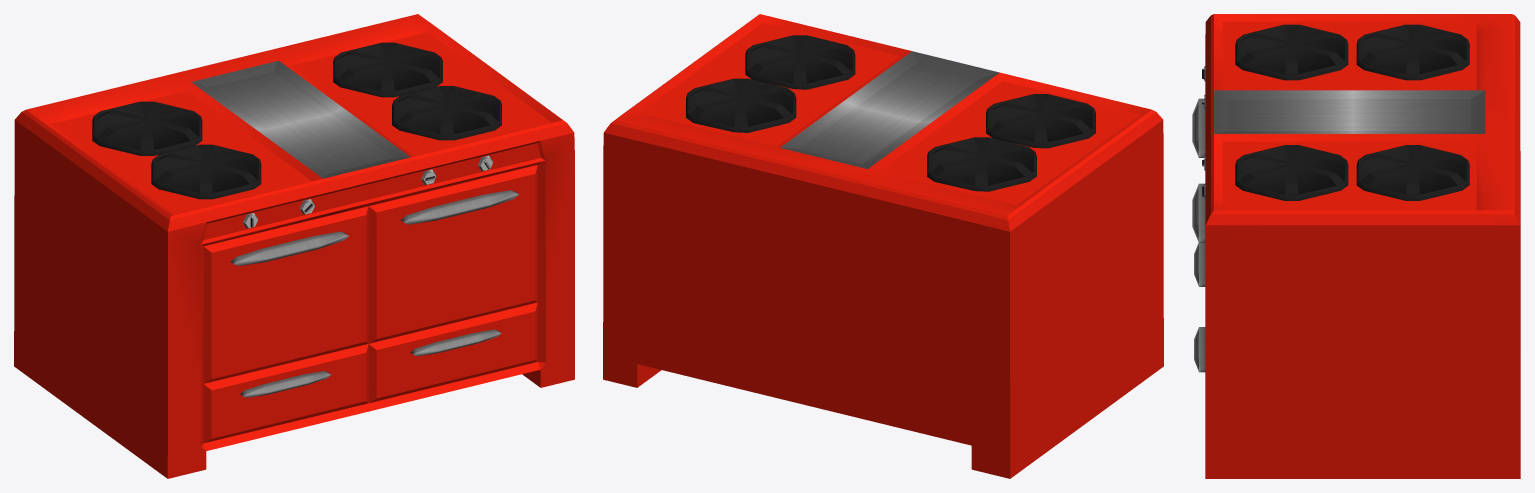
Rendered from Stove_And_Oven_01.FBX.
3 views of the same model, side by side, from view 1: azimuth 30°, elevation 25°; view 2: azimuth 150°, elevation 25°; view 3: azimuth 270°, elevation 25° (orthographic). The views are drawn at different scales.
Parts seen in each view (by area): view 1: Oven/Stove; view 2: Oven/Stove; view 3: Oven/Stove.
Boxes of the visible parts, x1,y1,x2,y2 form: Oven/Stove: [14, 14, 574, 478]; Oven/Stove: [603, 14, 1163, 478]; Oven/Stove: [1192, 14, 1520, 478].
Bounding box in the file's own units: 230 × 143 × 157.
